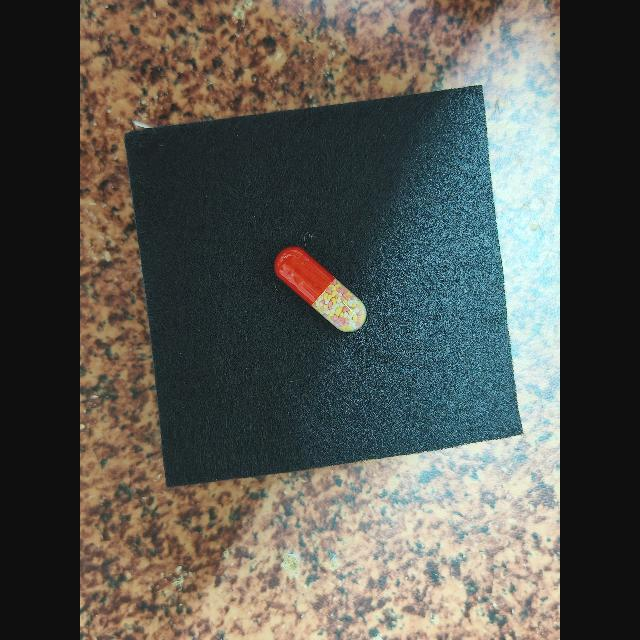Intact Capsule: (274, 247, 366, 332)
